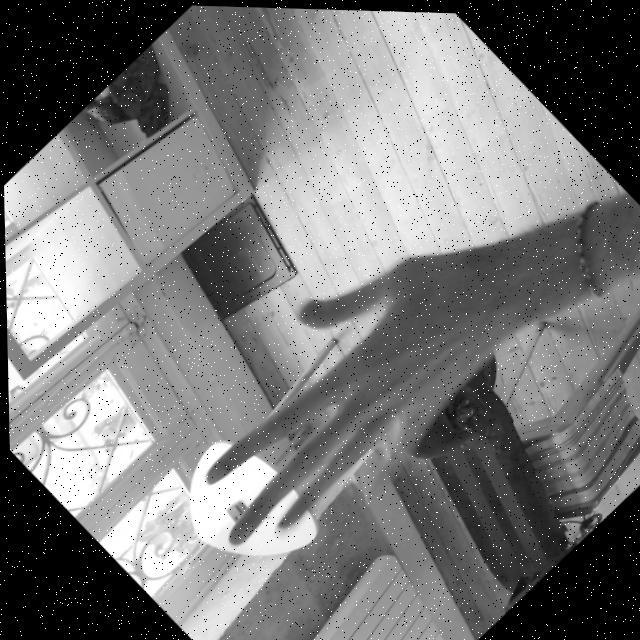no-gloves: (135, 188, 548, 598)
